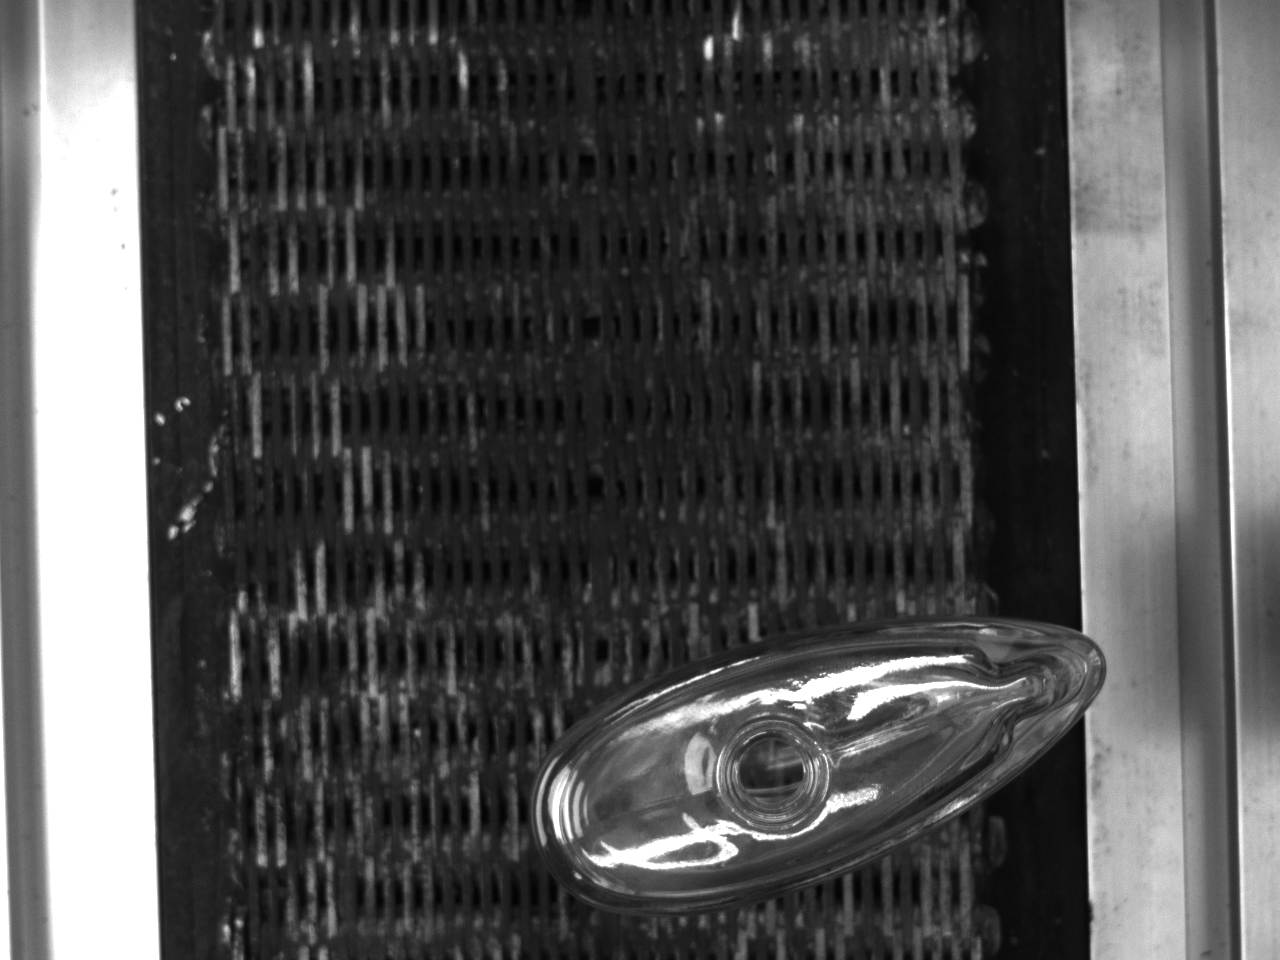bottleneck: (721, 719, 829, 835)
